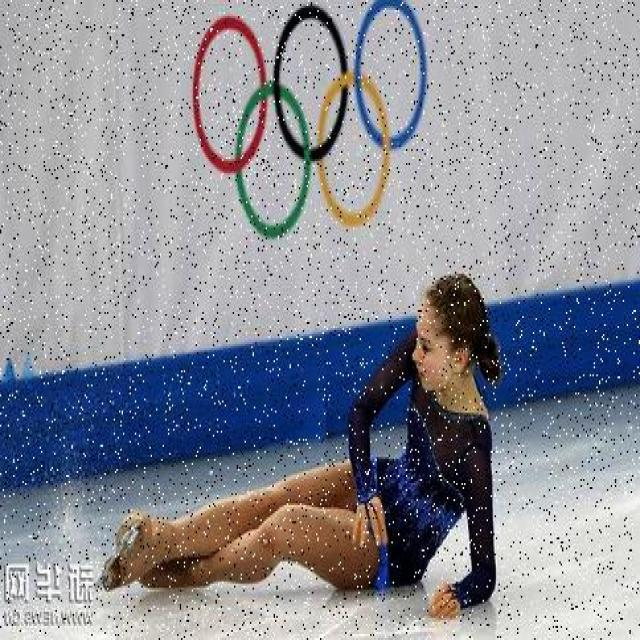fall: (116, 286, 498, 606)
